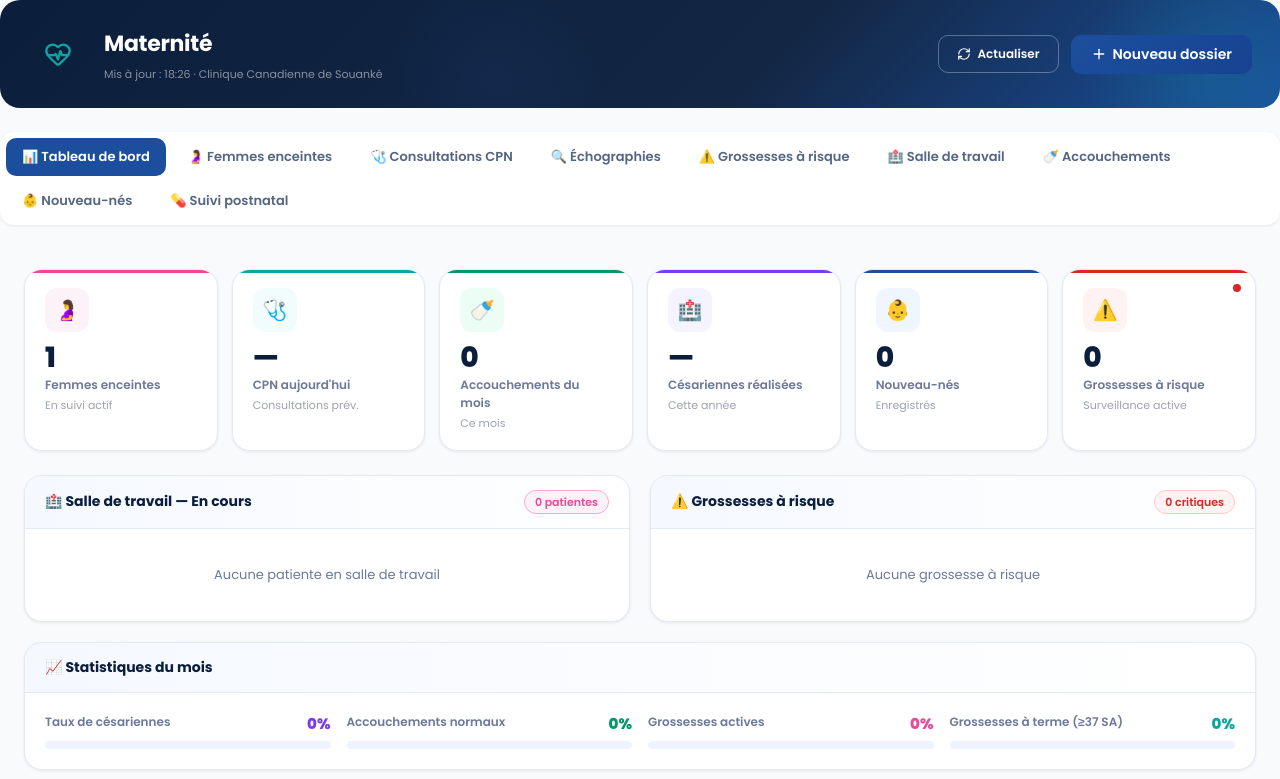
it: une CPN réelle affiche son vrai terme et sa vraie tension, jamais "—" pour des données existantes
Click the button "🤰 Femmes enceintes" at coordinates (260, 157), box x1=172 y1=138 x2=348 y2=176
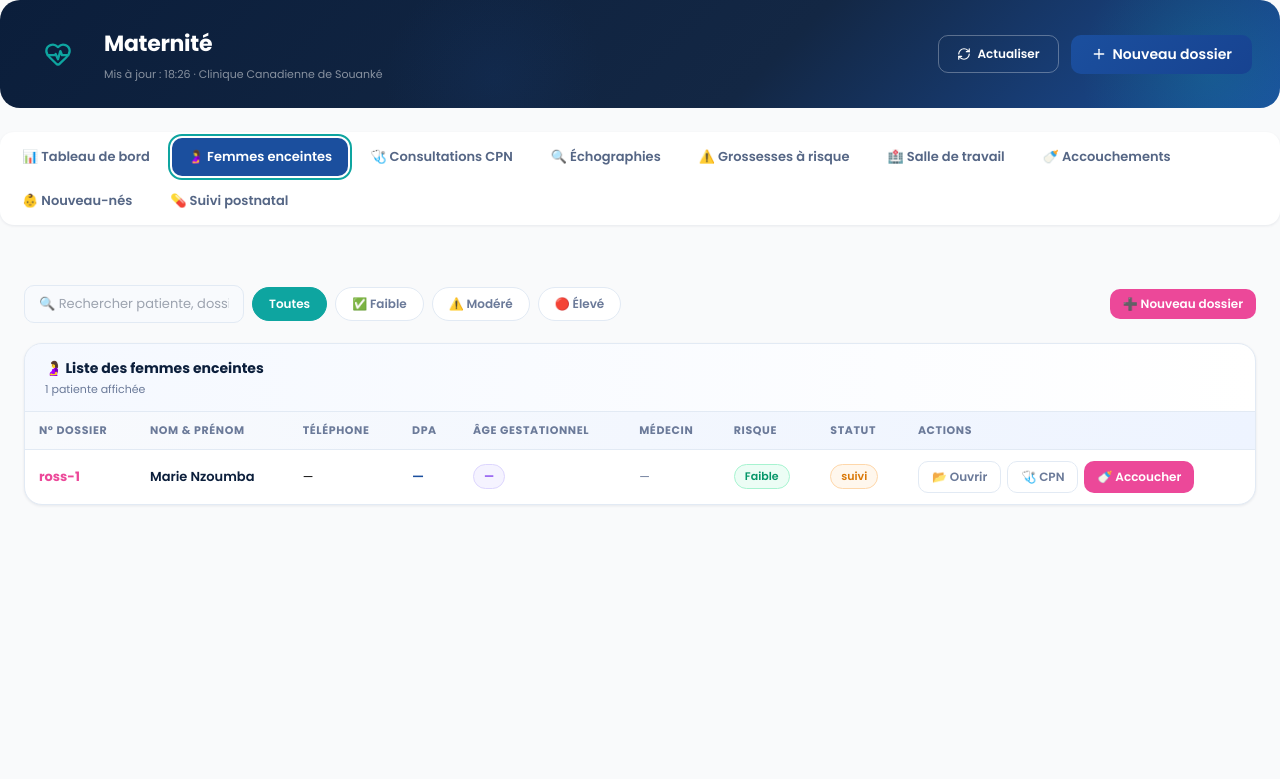
Click the button "📂 Ouvrir" at coordinates (960, 476), box x1=918 y1=460 x2=1001 y2=492
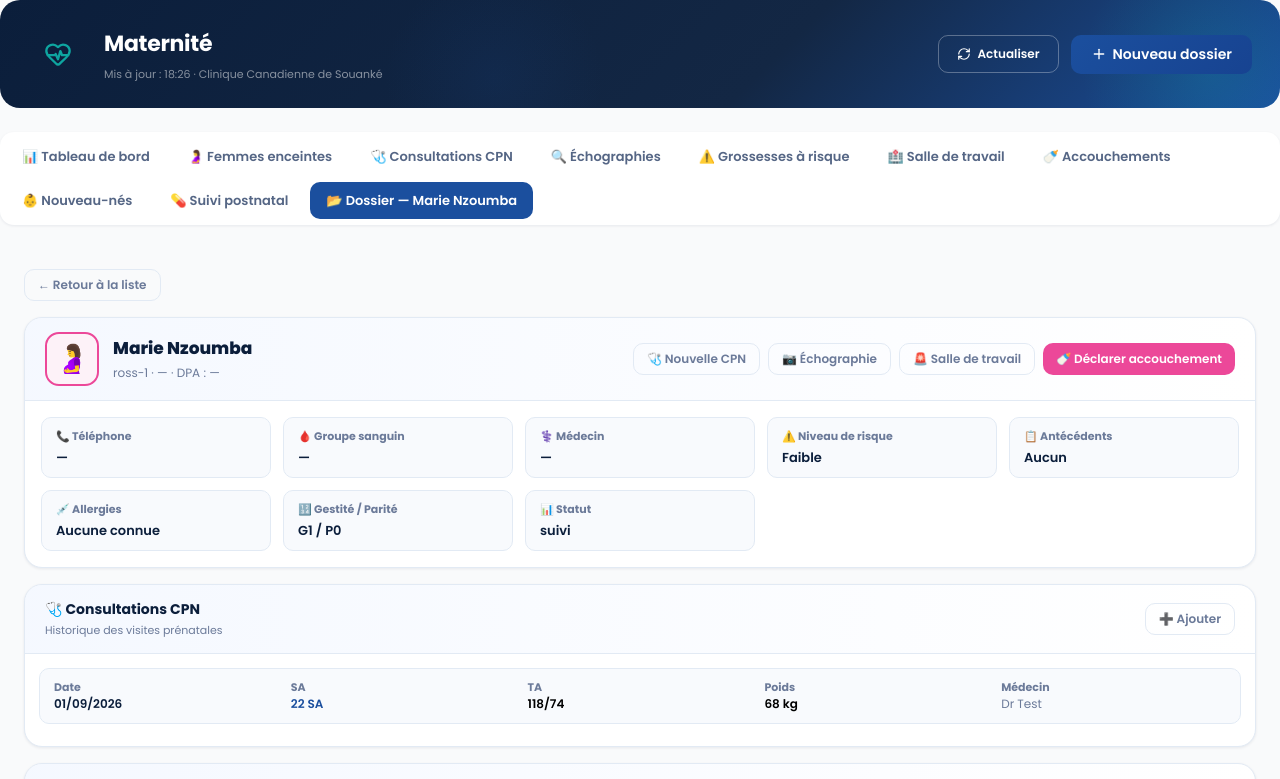
Check: the heading "🩺 Consultations CPN" is shown, box x1=45 y1=599 x2=222 y2=620
Check: the text "22 SA" is shown, box x1=291 y1=695 x2=323 y2=712
Check: the text "118/74" is shown, box x1=528 y1=695 x2=564 y2=712
